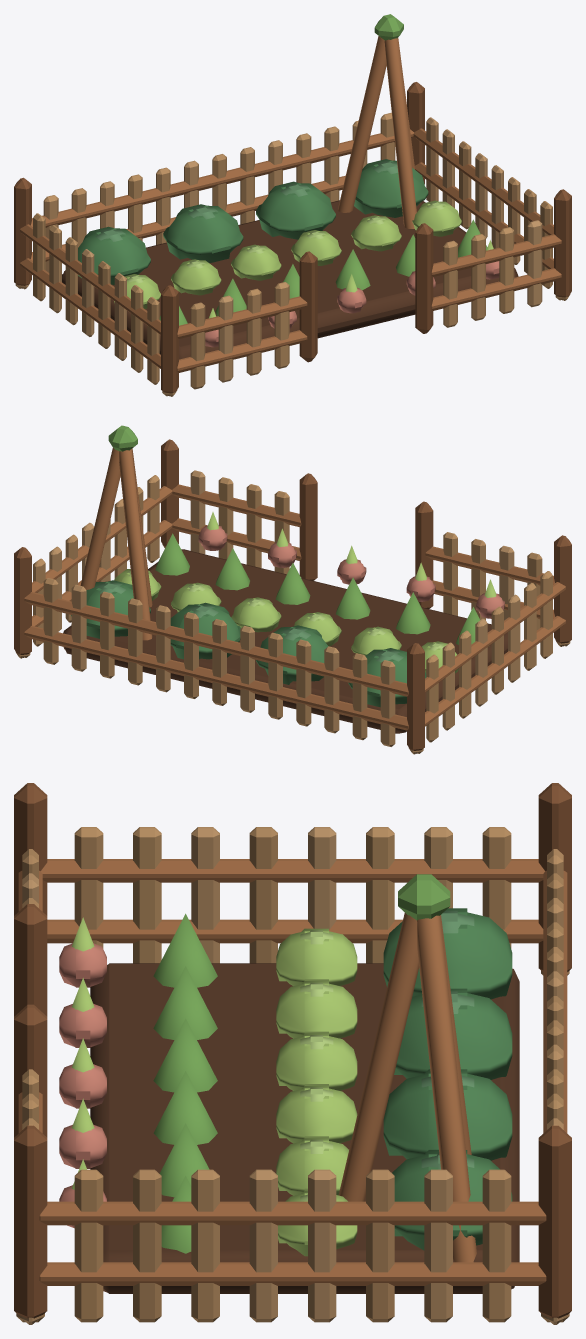
File: garden_hazel.glb
3 views of the same model, one above another, from view 1: azimuth 30°, elevation 25°; view 2: azimuth 150°, elevation 25°; view 3: azimuth 270°, elevation 25° (orthographic). The views are drawn at different scales.
Visible parts, largest first — view 1: body; view 2: body; view 3: body.
Part boxes in pixels (x1=…): body: x1=14, y1=14, x2=571, y2=396; body: x1=14, y1=425, x2=571, y2=754; body: x1=14, y1=783, x2=571, y2=1324.
Size of the model in its own units: 3.54 by 1.8 by 2.34.
